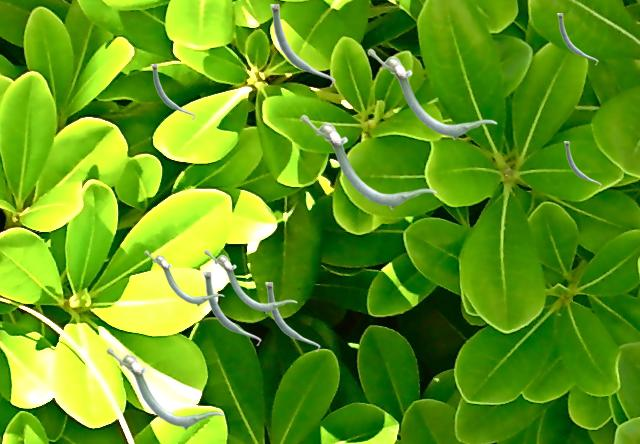french_bean: (300, 114, 436, 209), (367, 48, 496, 139), (106, 347, 223, 429), (204, 249, 296, 313), (270, 4, 334, 86), (144, 250, 223, 305), (203, 272, 260, 345), (265, 282, 319, 351), (151, 64, 194, 119), (557, 13, 597, 64), (564, 141, 600, 187)
